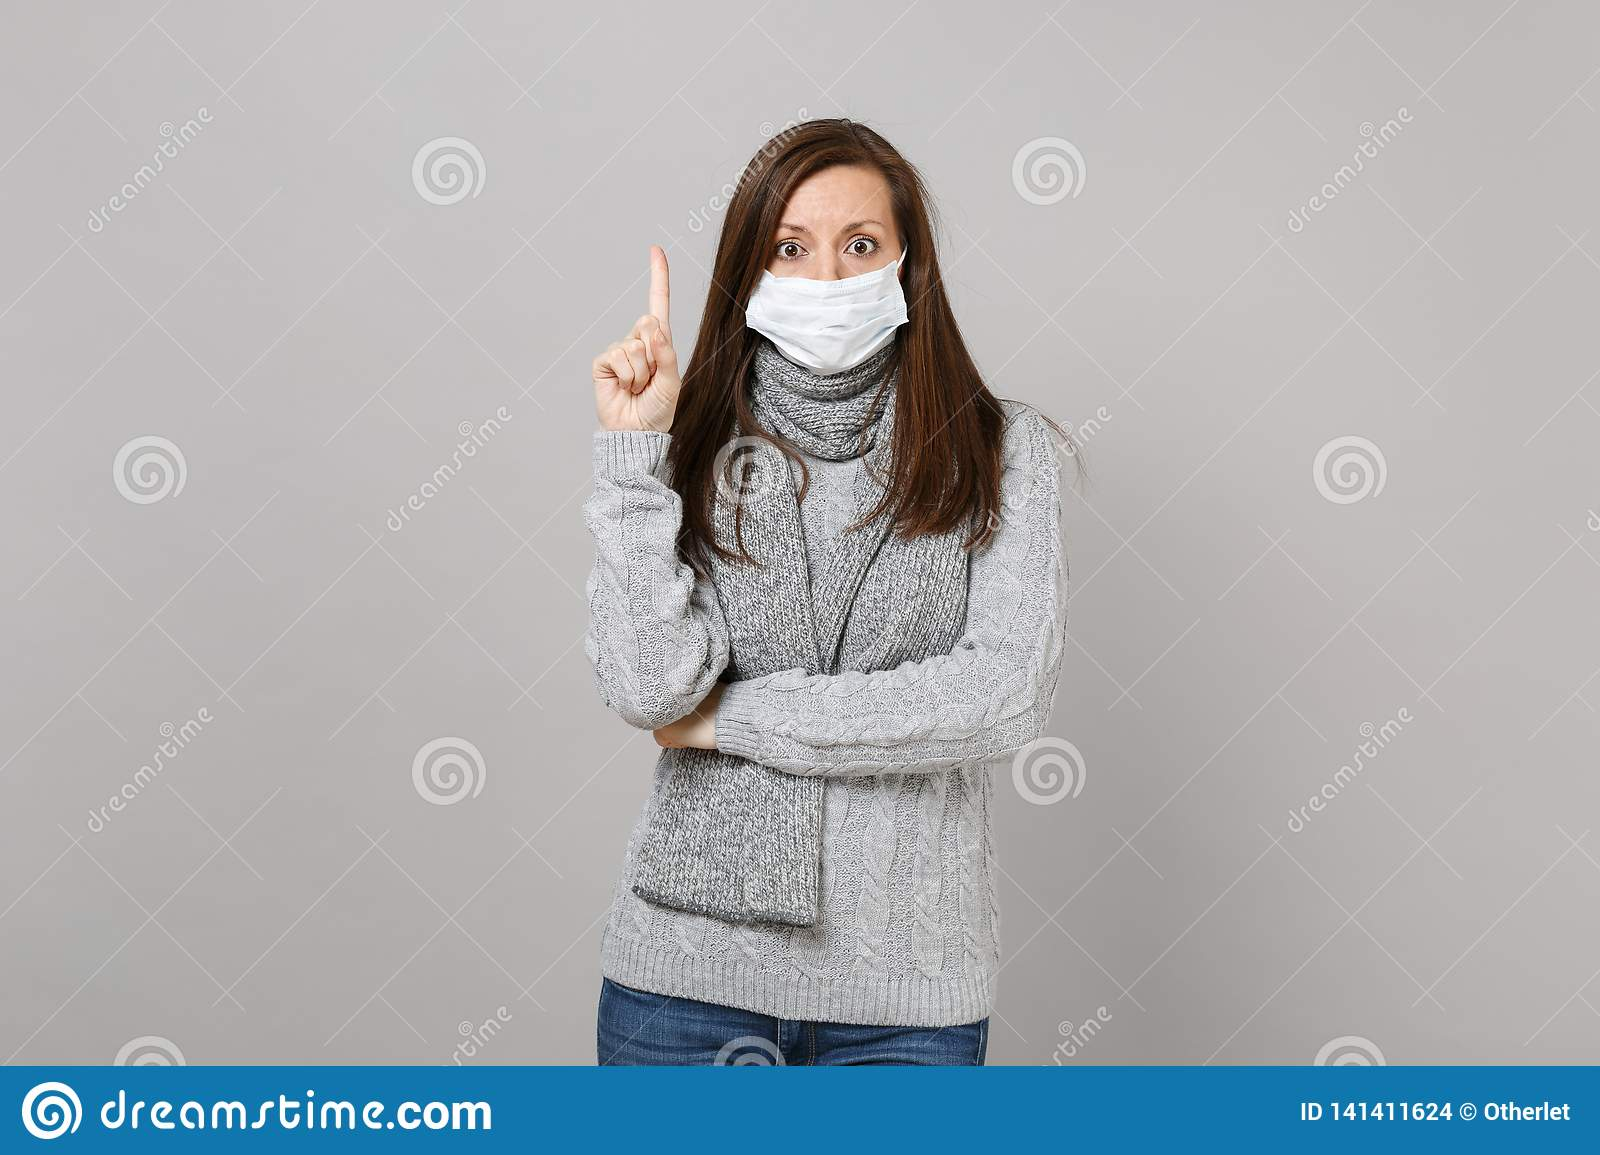mask: (747, 269, 913, 380)
